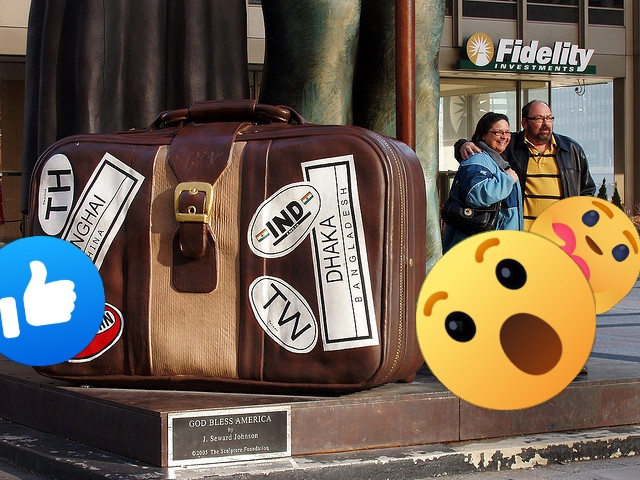care: (524, 196, 640, 314)
like: (0, 236, 105, 366)
wow: (416, 230, 596, 410)
